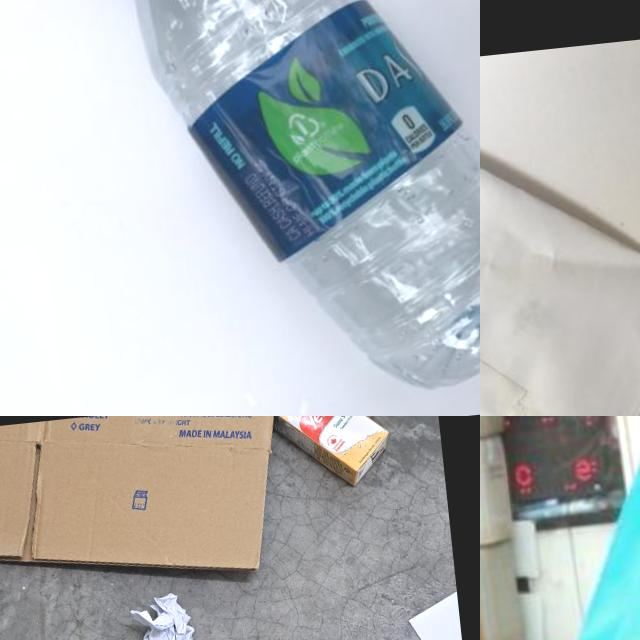caixinha: (271, 416, 392, 490)
garrafa plástica: (129, 0, 480, 416)
papel: (480, 33, 640, 416), (123, 590, 199, 640), (403, 578, 464, 640)
papelão: (0, 416, 292, 600)
sacola plástica: (480, 416, 640, 640)
